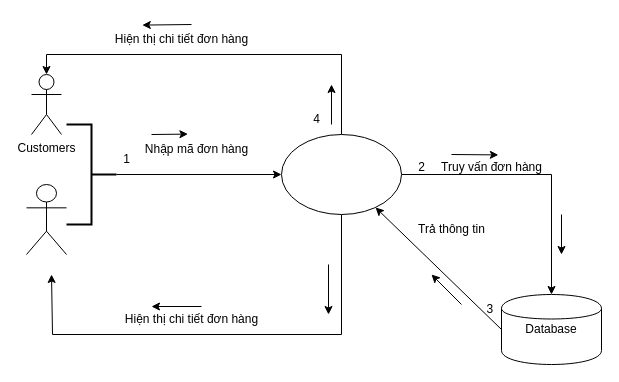
The diagram is 619 pixels wide and 382 high, and some of its shapes have lost their labels. The centre of each missing label's shape, as x and y in pixels:
"Staff" goes at point 46,219.
"System" goes at point 341,174.
